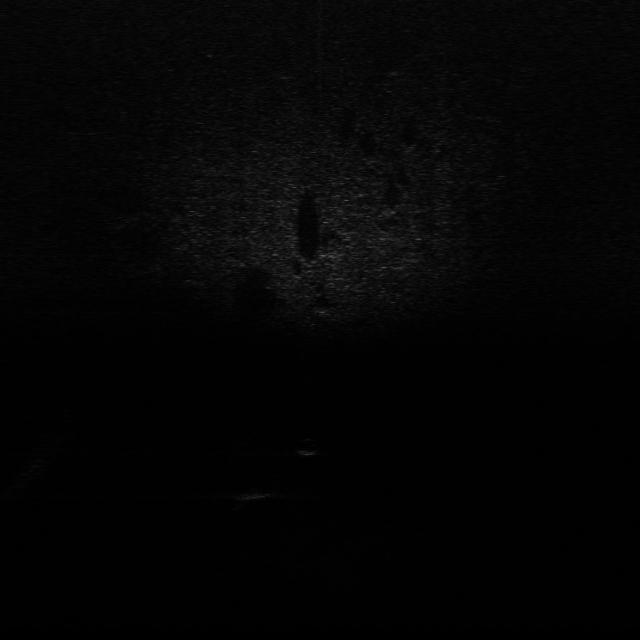ball: (290, 437, 322, 457)
square cage: (234, 484, 288, 502)
